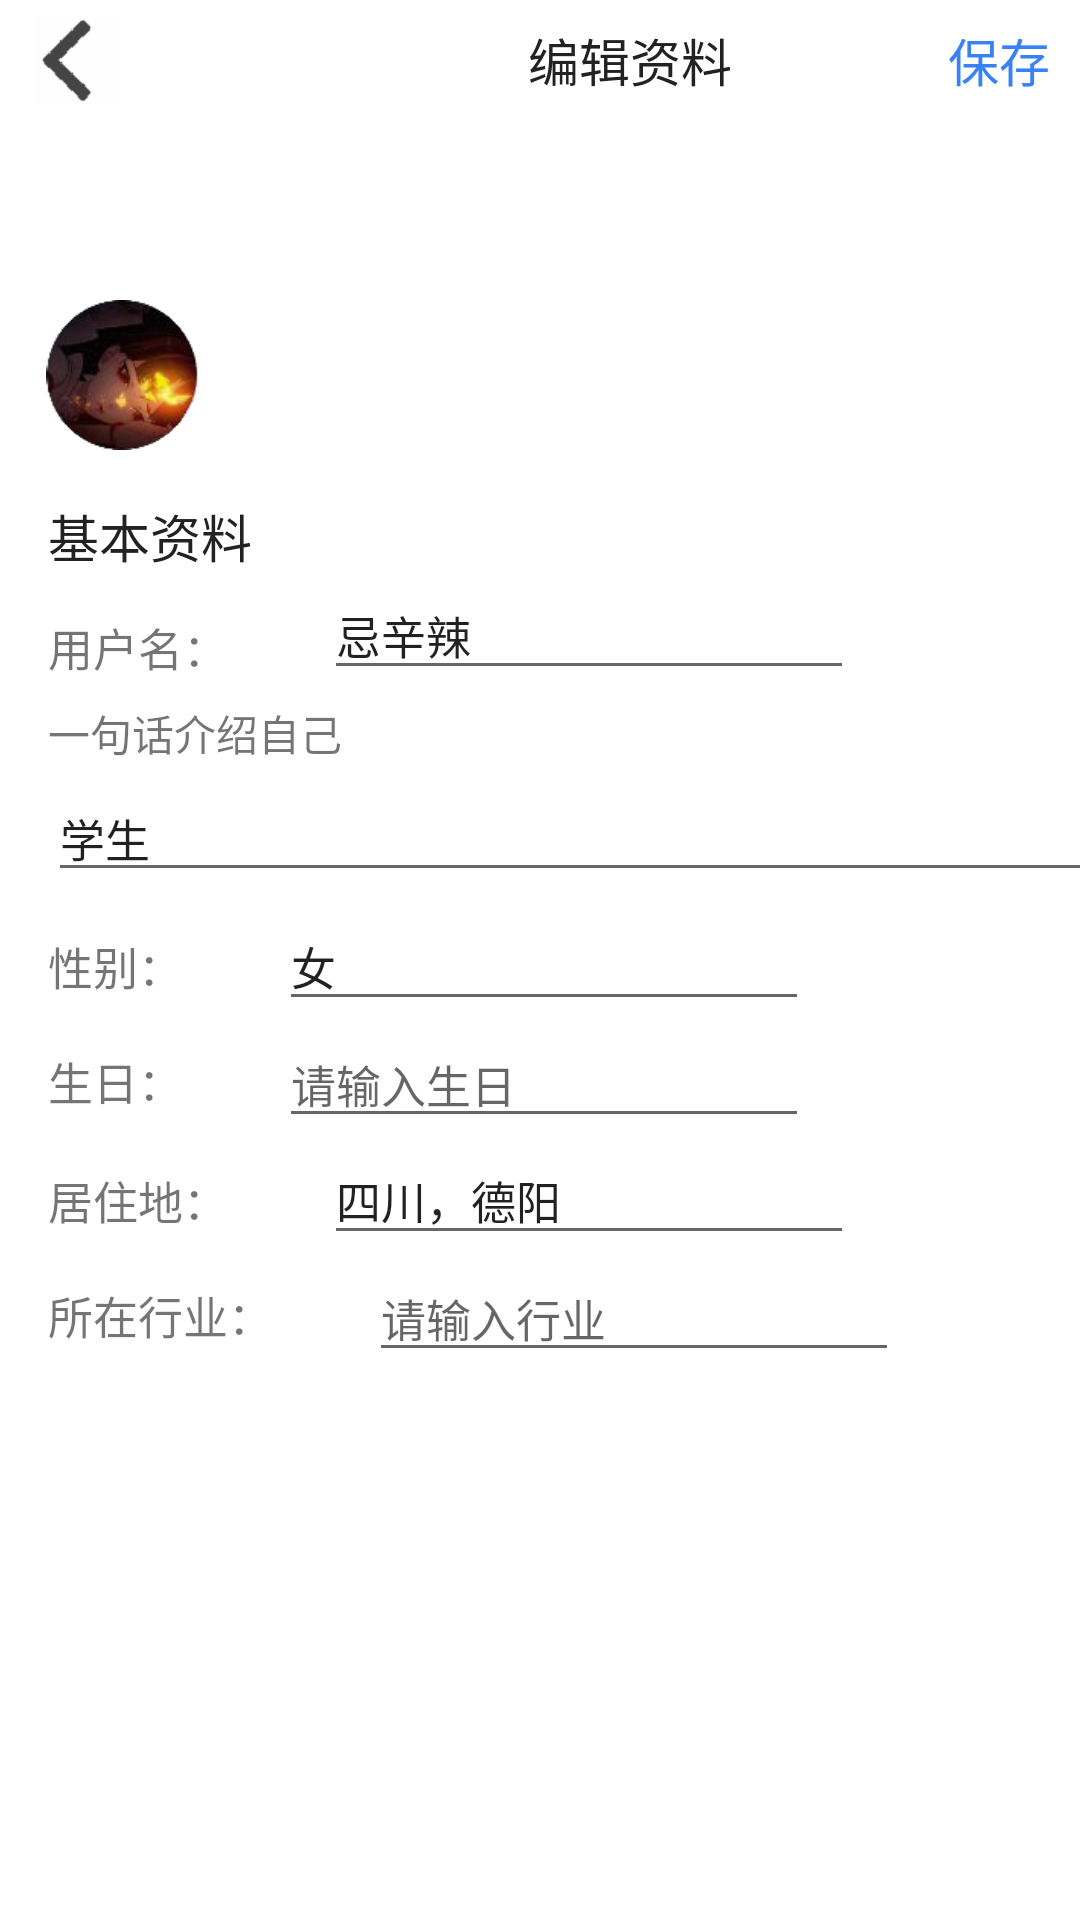

Icon click points for this 1080 × 1920 phone screenshot, format (x,y):
back: (66,61)
